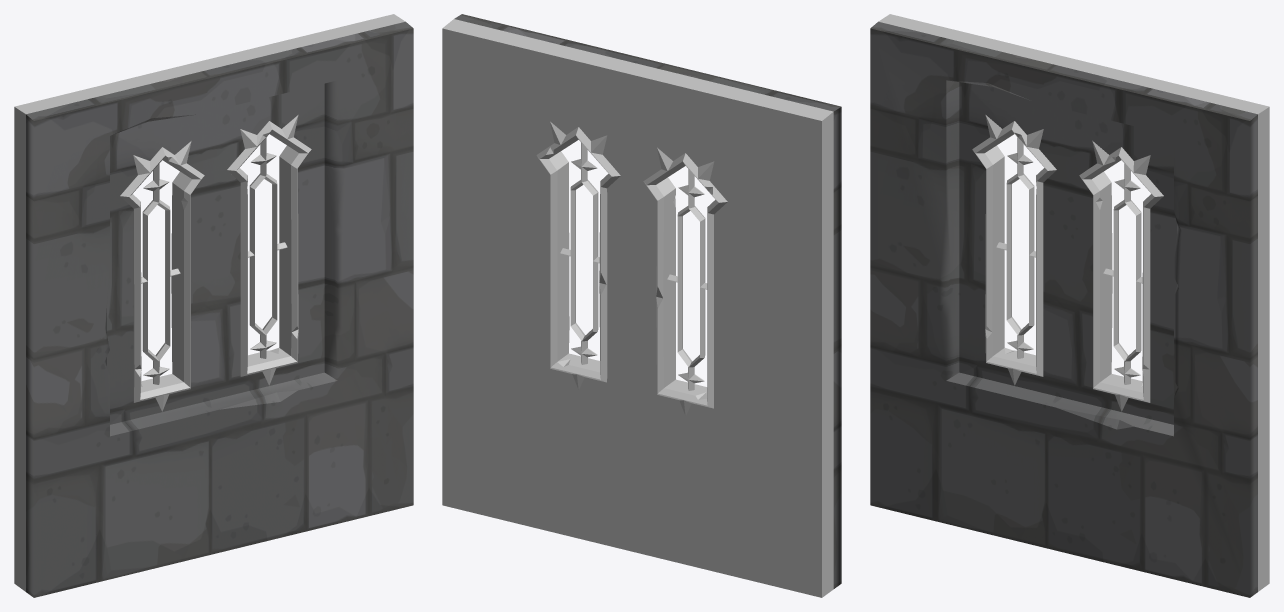
Rendered from SM_Bld_Wall_L_Window_06.fbx.
3 renders of one model, left to right at view 1: azimuth 30°, elevation 25°; view 2: azimuth 150°, elevation 25°; view 3: azimuth 330°, elevation 25°, orthographic.
Parts seen in each view (by area): view 1: SM_Bld_Wall_L_Window_06; view 2: SM_Bld_Wall_L_Window_06; view 3: SM_Bld_Wall_L_Window_06.
Boxes of the visible parts, <box> form: SM_Bld_Wall_L_Window_06: <box>14,14,413,597</box>; SM_Bld_Wall_L_Window_06: <box>442,14,841,597</box>; SM_Bld_Wall_L_Window_06: <box>870,14,1269,597</box>.
Size of the model in its own units: 500 by 601 by 51.38.
